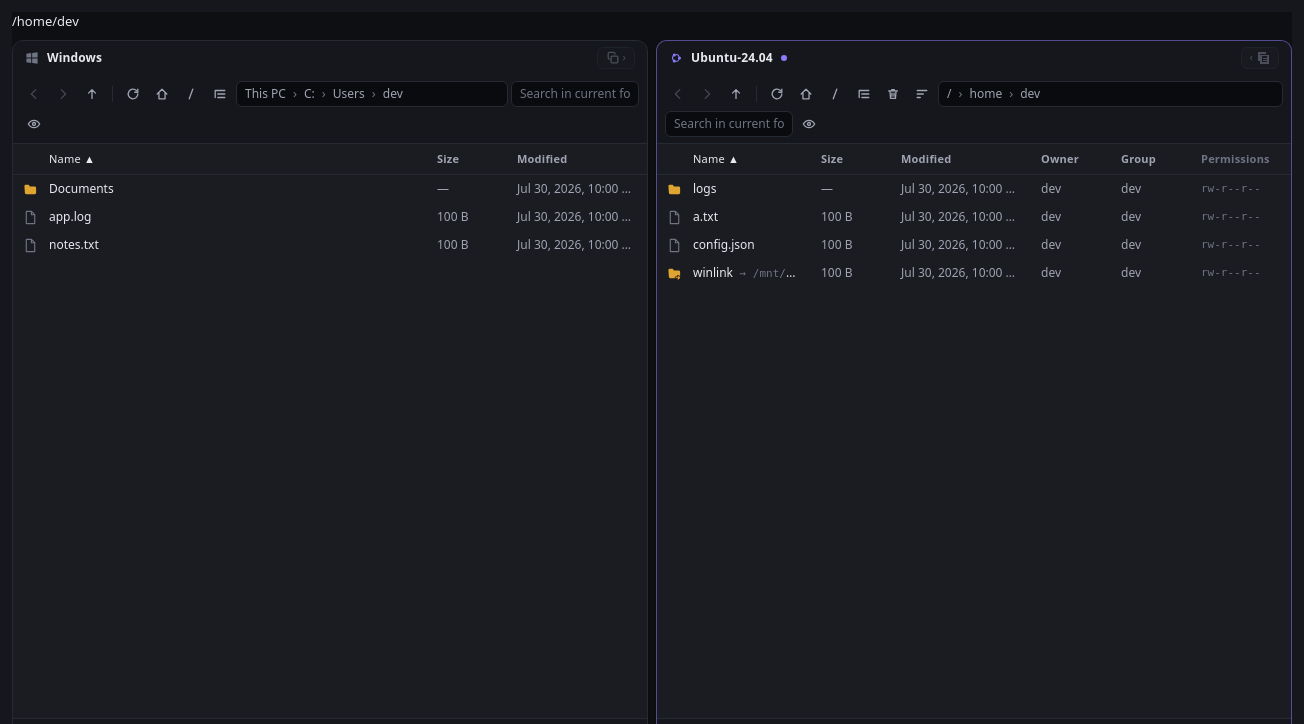
directory sizes › measures on demand and lists the children largest first
Check: the text "notes.txt" is shown, box [49,236,99,253]
Check: the text "config.json" is shown, box [693,236,755,253]
Click the button named "Measure directory sizes": {"x": 922, "y": 94} [909,80,935,106]
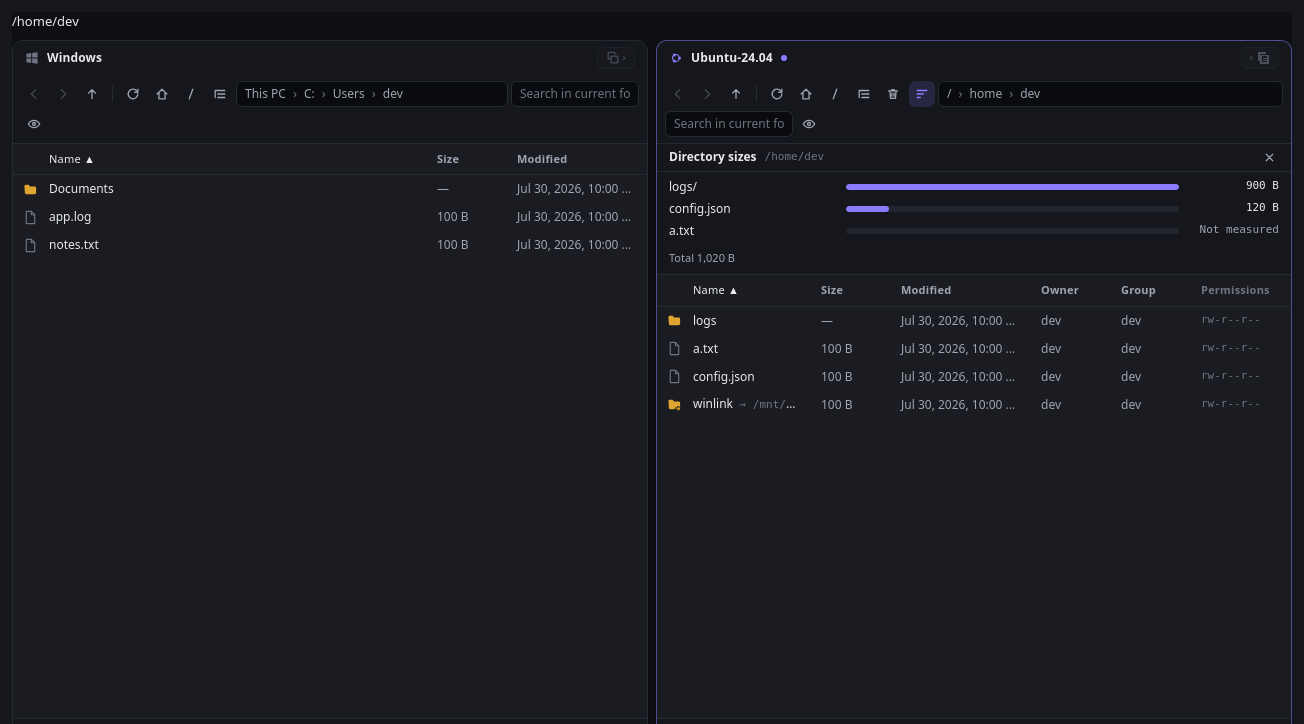
Check: the element "Directory sizes" shows "Not measured", box [1200,223,1279,236]
